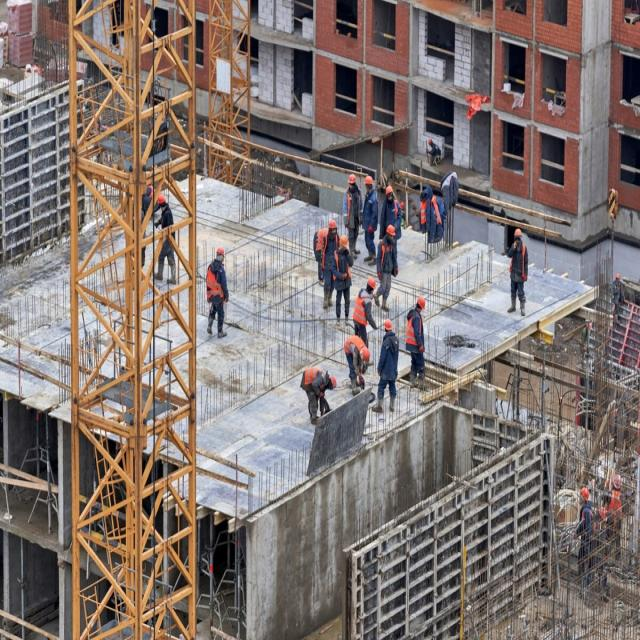Helmet: (417, 298, 427, 312), (614, 476, 623, 491), (340, 236, 350, 249), (157, 195, 167, 207), (582, 489, 590, 504), (369, 278, 378, 291), (329, 221, 339, 232), (388, 226, 397, 238), (331, 377, 338, 391), (364, 351, 372, 363), (385, 320, 393, 332), (217, 249, 226, 259), (350, 176, 358, 187), (386, 188, 395, 197), (366, 177, 374, 187), (516, 230, 523, 237), (617, 274, 621, 285), (429, 139, 433, 145)
Jacket: (207, 264, 225, 302), (334, 250, 352, 288), (346, 189, 362, 226), (512, 243, 527, 282), (409, 314, 424, 351), (356, 293, 371, 328), (380, 240, 396, 271), (422, 199, 439, 226), (306, 371, 329, 387), (345, 339, 365, 356), (317, 231, 329, 248)
NoJacket: (383, 336, 399, 381), (365, 193, 378, 232)
